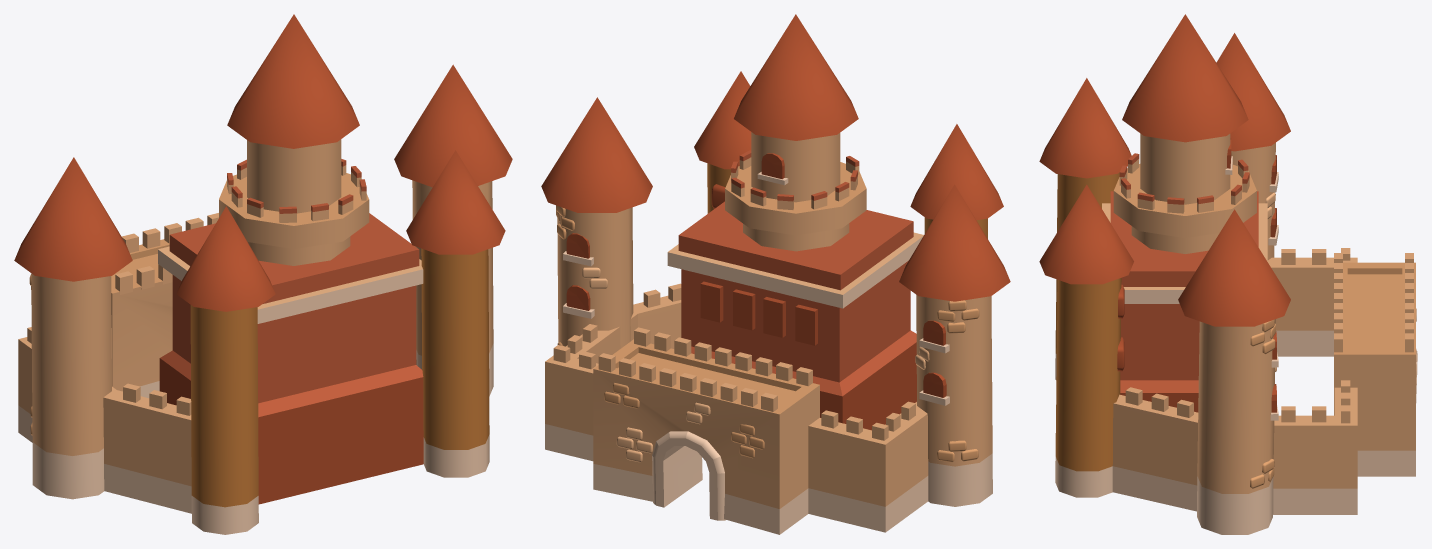
The model's file is laudai.fbx.
3 views of the same model, side by side, from view 1: azimuth 30°, elevation 25°; view 2: azimuth 150°, elevation 25°; view 3: azimuth 270°, elevation 25° (orthographic). The views are drawn at different scales.
Visible parts, largest first — view 1: laudai; view 2: laudai; view 3: laudai.
Boxes of the visible parts, x1=… form: laudai: x1=14, y1=14, x2=512, y2=534; laudai: x1=541, y1=14, x2=1010, y2=534; laudai: x1=1039, y1=14, x2=1417, y2=534.
Bounding box in the file's own units: 1095 × 967 × 787.
